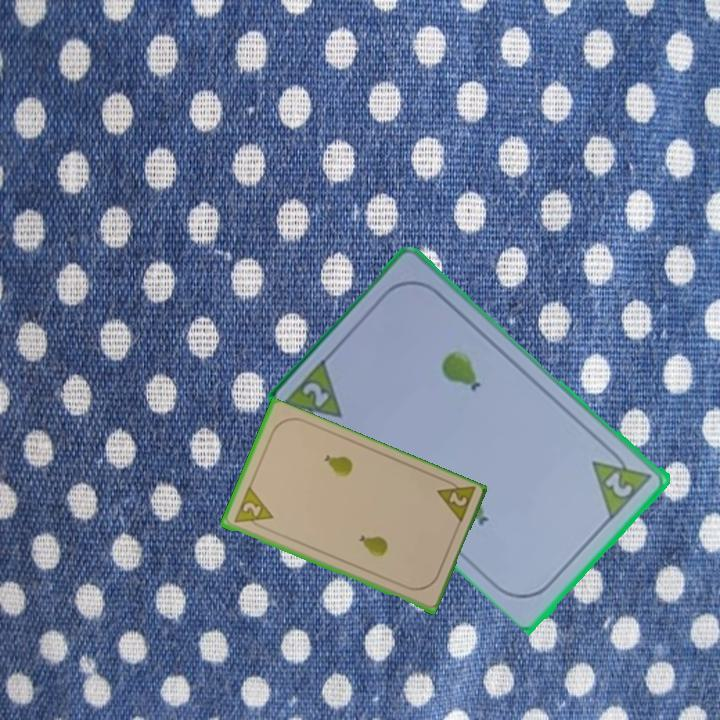2p: (433, 475, 478, 528), (230, 485, 275, 532), (602, 468, 637, 501), (299, 378, 334, 410)
